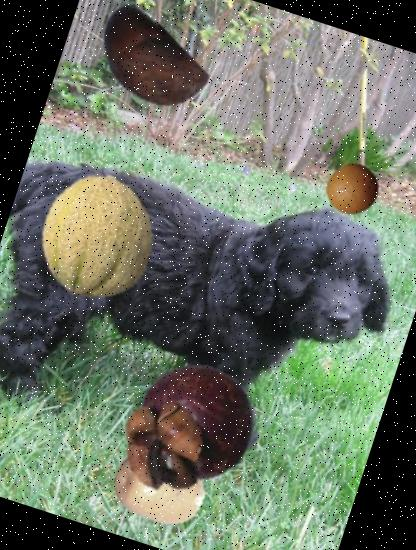Cantaloupe: (17, 158, 178, 318)
Chestnut: (71, 0, 221, 136)
Kumquats: (101, 430, 217, 546)
Mangostan: (96, 338, 276, 518)
Orange: (318, 156, 386, 222)
